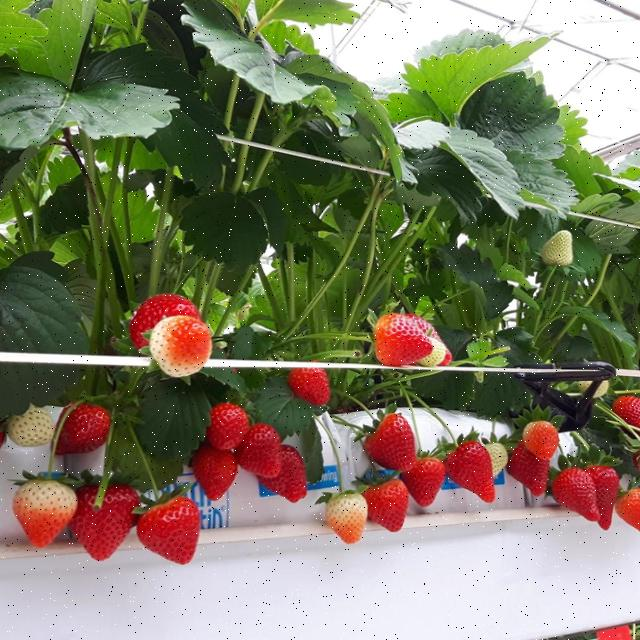Ripe Strawberry: (69, 484, 141, 562), (137, 494, 203, 564), (129, 294, 205, 348), (373, 311, 434, 367), (445, 440, 494, 504), (54, 404, 110, 457), (368, 414, 417, 474), (550, 468, 600, 522), (394, 456, 446, 507), (578, 466, 618, 530), (191, 450, 240, 500), (264, 443, 306, 501), (237, 428, 283, 478), (510, 442, 548, 498), (208, 402, 249, 452), (366, 486, 410, 532), (292, 363, 331, 407), (610, 397, 640, 427), (596, 623, 633, 640), (443, 347, 452, 364)
